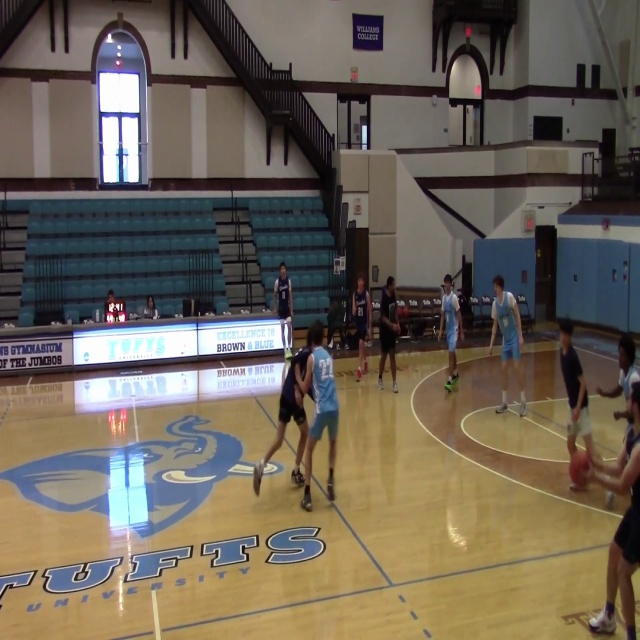Basketball: (568, 449, 592, 489)
